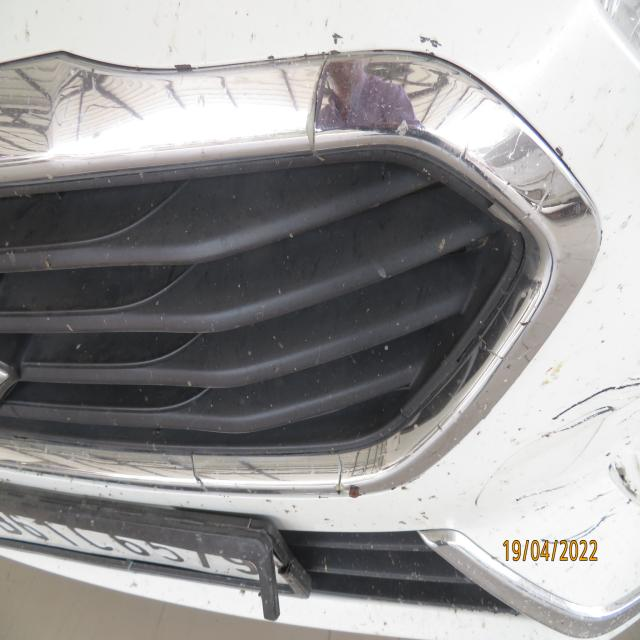damage: (469, 364, 640, 570)
